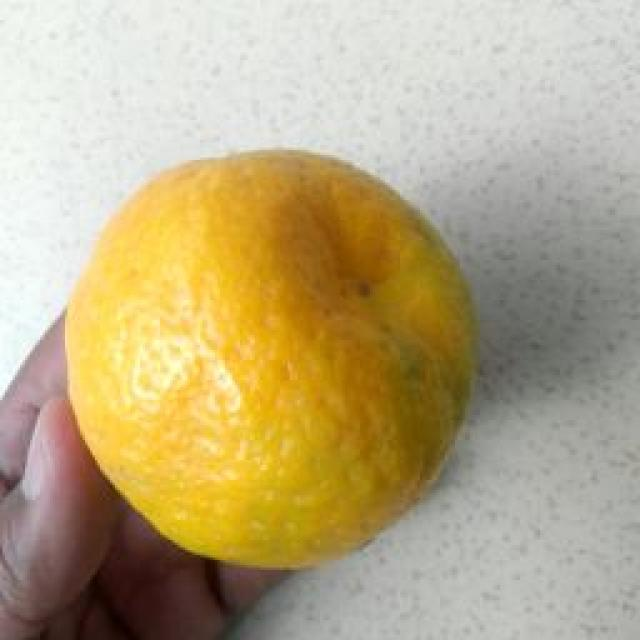Good_Orange: (65, 150, 480, 572)
